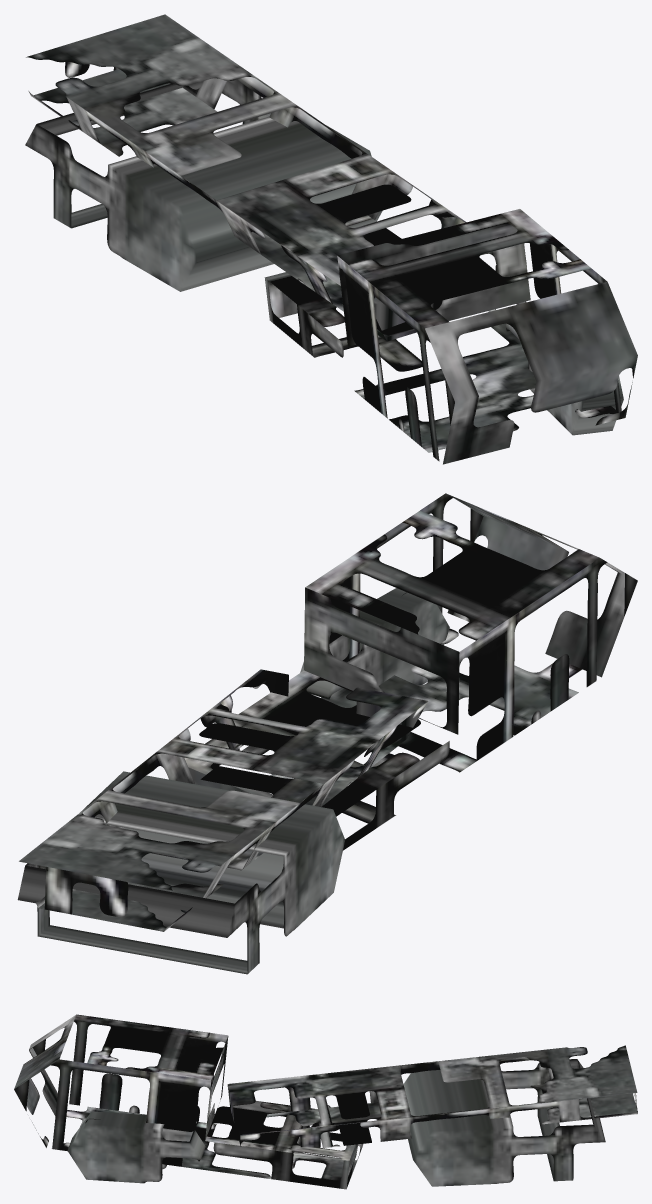
The model's file is cargotruckprop_dam_hdtex.glb.
The picture shows the model from 3 angles, top to bottom: view 1: azimuth 30°, elevation 25°; view 2: azimuth 150°, elevation 25°; view 3: azimuth 270°, elevation 25°; orthographic projection. The views are drawn at different scales.
Parts seen in each view (by area): view 1: tank02; view 2: tank02; view 3: tank02.
Boxes of the visible parts, x1,y1,x2,y2 form: tank02: [25, 14, 637, 464]; tank02: [17, 493, 637, 974]; tank02: [14, 1014, 637, 1189].
Bounding box in the file's own units: 4.52 × 3.21 × 15.2.
1 material, 1 textured.
